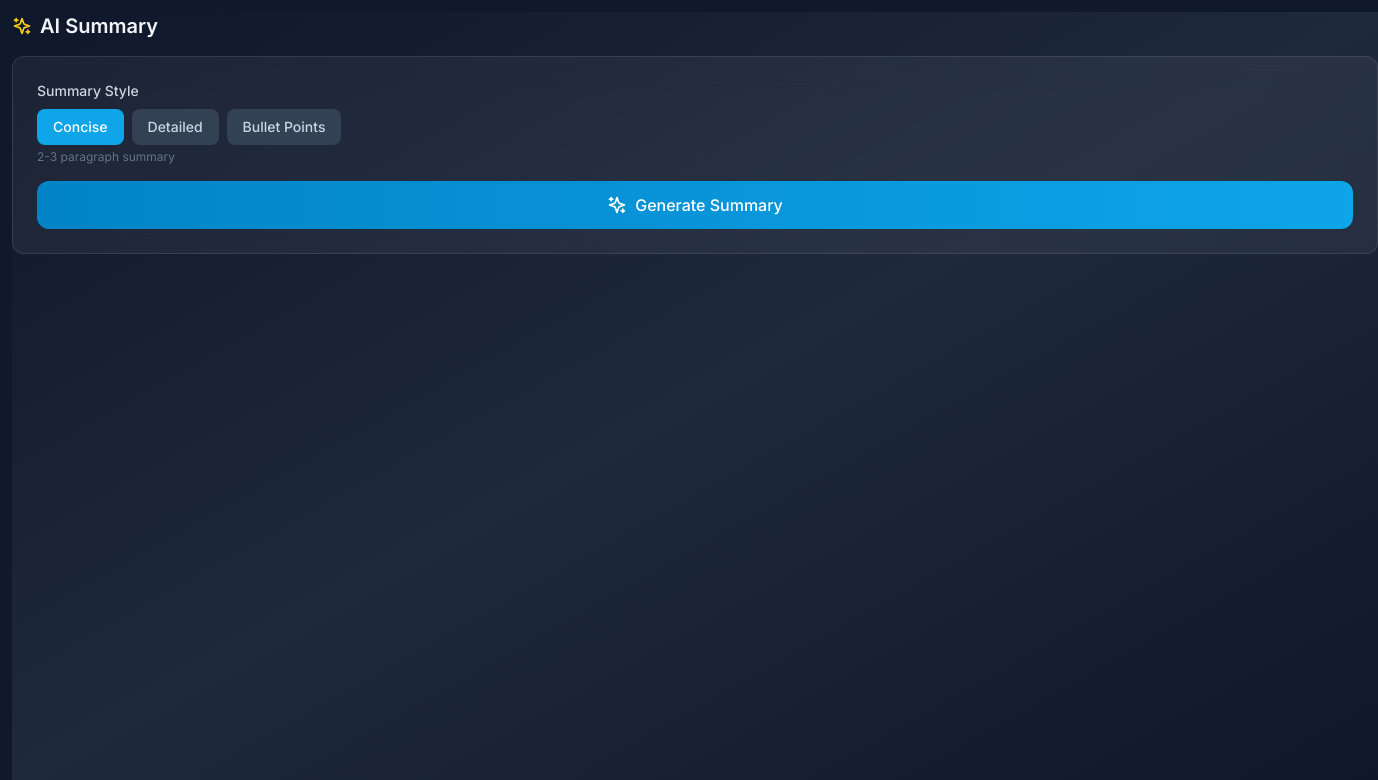
SummaryPanel Component › should show regenerate button after summary is generated
The width and height of the screenshot is (1378, 780).
Click the button "Generate Summary" at (695, 205), box [37,181,1353,229]
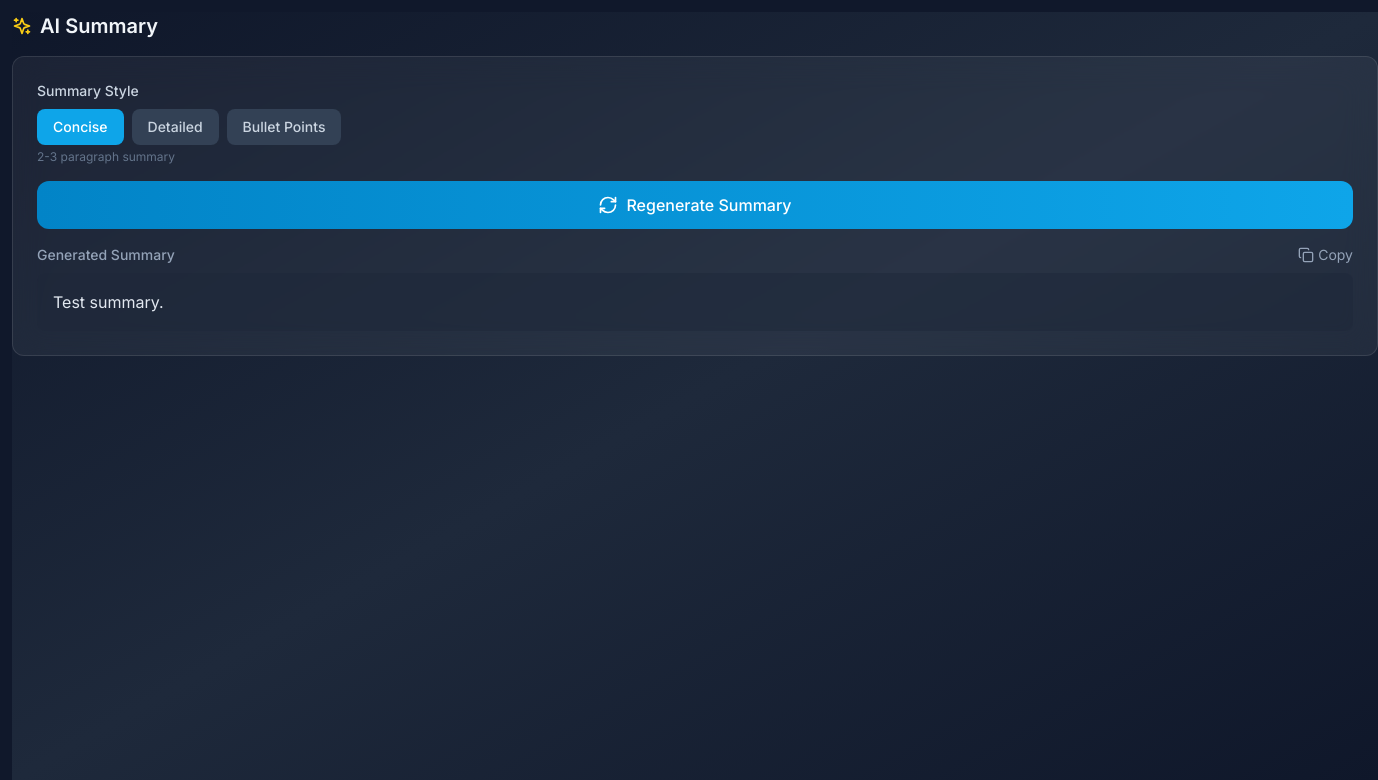
Now the button "Regenerate Summary" is shown, box [37,181,1353,229]
